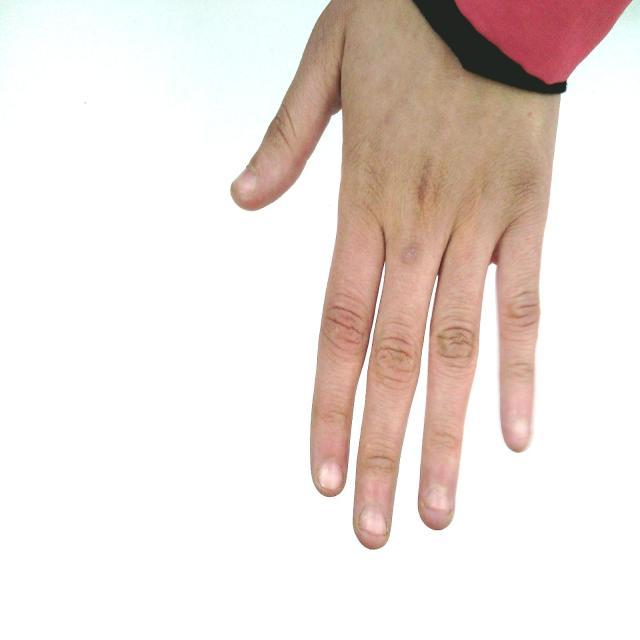Fingernail: (362, 510, 386, 535), (320, 462, 342, 489), (426, 487, 450, 509), (233, 171, 255, 195), (510, 420, 528, 444)
